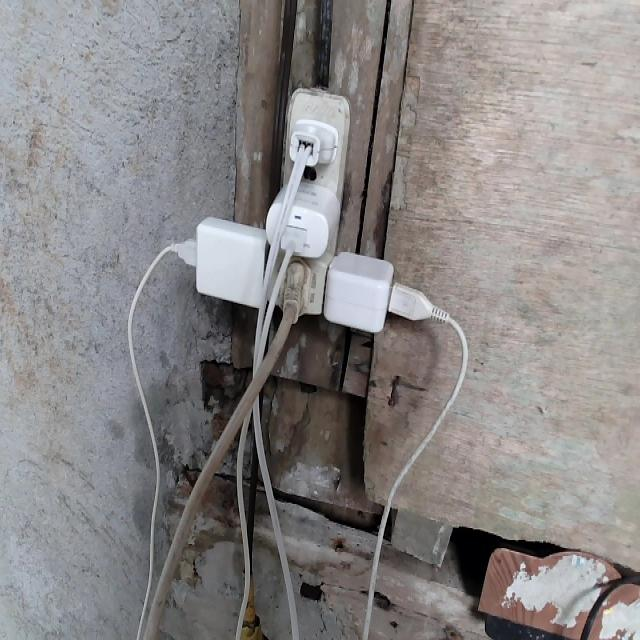-: (166, 85, 460, 340)
